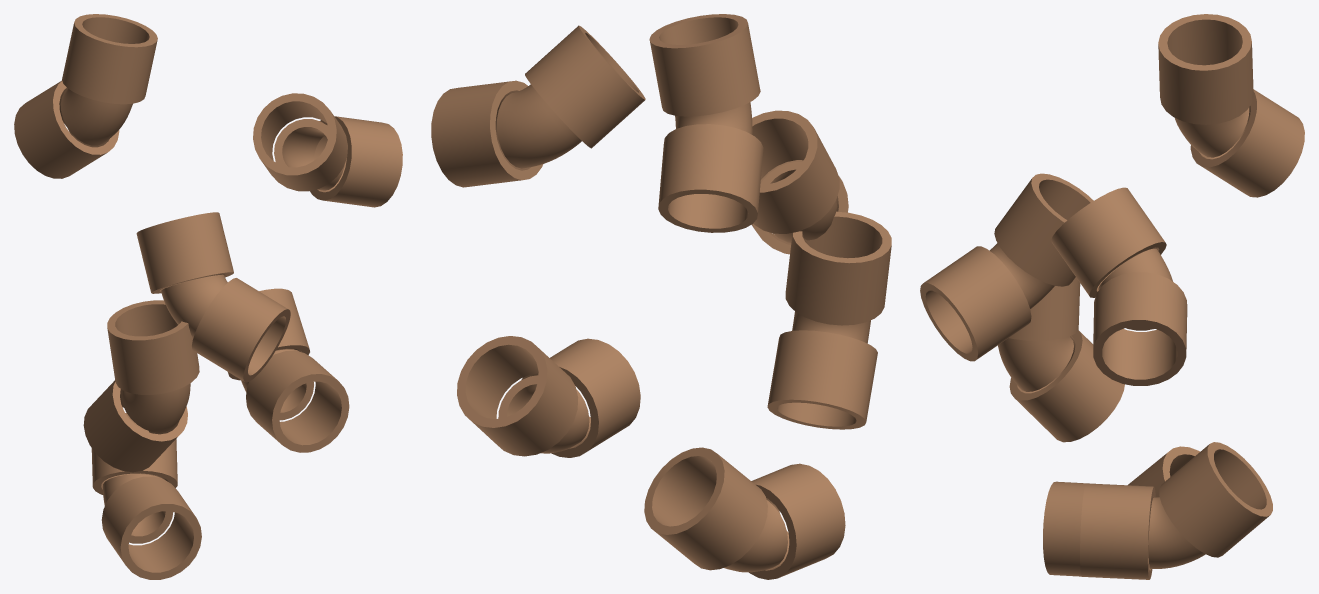
Rendered from HID-CNX-002_anim.glb.
3 views of the same model, side by side, from view 1: azimuth 30°, elevation 25°; view 2: azimuth 150°, elevation 25°; view 3: azimuth 270°, elevation 25° (orthographic). The views are drawn at different scales.
Visible parts, largest first — view 1: HID-CNX-002_anim5, HID-CNX-002_anim3, HID-CNX-002_anim2, HID-CNX-002_anim4, HID-CNX-002_anim0, HID-CNX-002_anim1; view 2: HID-CNX-002_anim5, HID-CNX-002_anim2, HID-CNX-002_anim4, HID-CNX-002_anim0, HID-CNX-002_anim1, HID-CNX-002_anim3; view 3: HID-CNX-002_anim1, HID-CNX-002_anim5, HID-CNX-002_anim4, HID-CNX-002_anim3, HID-CNX-002_anim2, HID-CNX-002_anim0.
Boxes of the visible parts, left/top/right/bottom form: HID-CNX-002_anim5: left=14, top=14, right=157, bottom=178; HID-CNX-002_anim3: left=136, top=212, right=290, bottom=382; HID-CNX-002_anim2: left=83, top=300, right=199, bottom=472; HID-CNX-002_anim4: left=253, top=93, right=402, bottom=207; HID-CNX-002_anim0: left=91, top=413, right=201, bottom=579; HID-CNX-002_anim1: left=228, top=288, right=349, bottom=452; HID-CNX-002_anim5: left=649, top=14, right=763, bottom=232; HID-CNX-002_anim2: left=767, top=211, right=891, bottom=429; HID-CNX-002_anim4: left=431, top=25, right=645, bottom=187; HID-CNX-002_anim0: left=644, top=447, right=845, bottom=579; HID-CNX-002_anim1: left=457, top=336, right=640, bottom=457; HID-CNX-002_anim3: left=751, top=110, right=848, bottom=254; HID-CNX-002_anim1: left=1080, top=442, right=1272, bottom=579; HID-CNX-002_anim5: left=1158, top=14, right=1304, bottom=197; HID-CNX-002_anim4: left=1051, top=187, right=1187, bottom=385; HID-CNX-002_anim3: left=920, top=173, right=1093, bottom=361; HID-CNX-002_anim2: left=998, top=277, right=1124, bottom=442; HID-CNX-002_anim0: left=1043, top=446, right=1199, bottom=576.
Size of the model in its own units: 0.1379 by 0.2008 by 0.1273.
